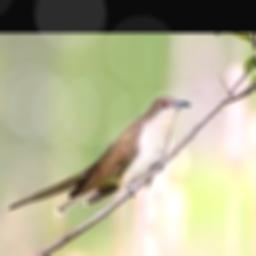Cuckoo: (5, 97, 191, 216)
